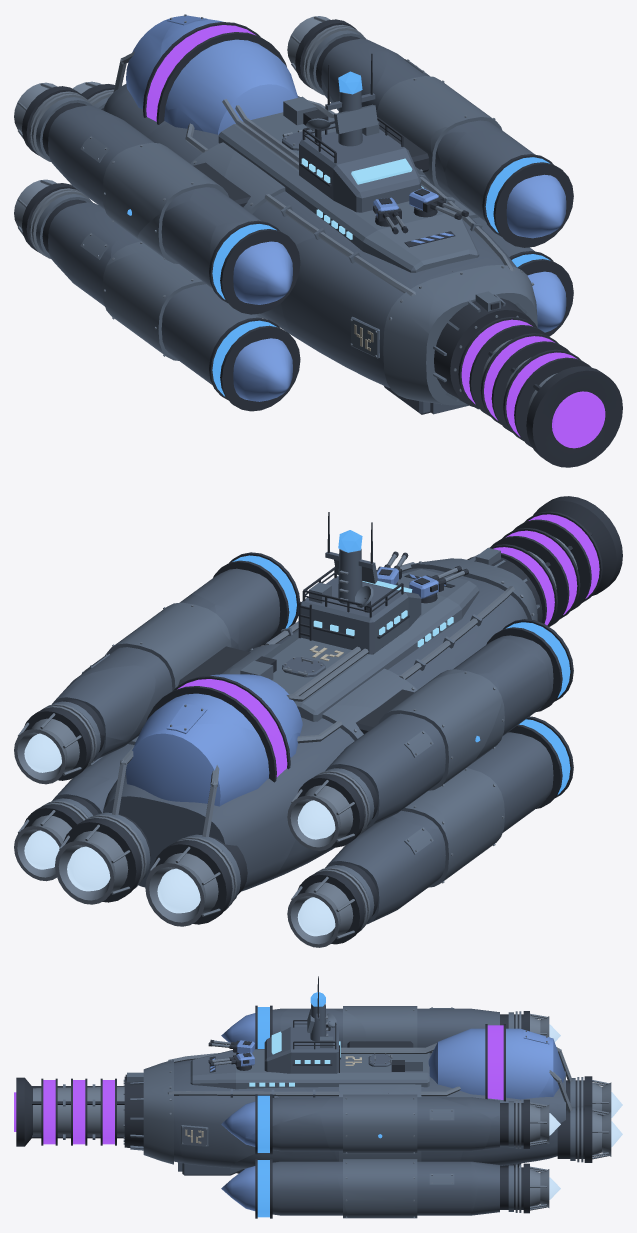
Rendered from plasma_frigate_wreck.glb.
3 views of the same model, one above another, from view 1: azimuth 30°, elevation 25°; view 2: azimuth 150°, elevation 25°; view 3: azimuth 270°, elevation 25° (orthographic). The views are drawn at different scales.
Parts seen in each view (by area): view 1: plasma_frigate_wreck_06, plasma_frigate_wreck_05, plasma_frigate_wreck_01, plasma_frigate_wreck_11, plasma_frigate_wreck_08, plasma_frigate_wreck_09, plasma_frigate_wreck_03, plasma_frigate_wreck_12, plasma_frigate_wreck_02, plasma_frigate_wreck_00, plasma_frigate_wreck_04, plasma_frigate_wreck_07; view 2: plasma_frigate_wreck_00, plasma_frigate_wreck_01, plasma_frigate_wreck_08, plasma_frigate_wreck_03, plasma_frigate_wreck_09, plasma_frigate_wreck_12, plasma_frigate_wreck_05, plasma_frigate_wreck_07, plasma_frigate_wreck_06, plasma_frigate_wreck_02, plasma_frigate_wreck_11; view 3: plasma_frigate_wreck_02, plasma_frigate_wreck_11, plasma_frigate_wreck_05, plasma_frigate_wreck_07, plasma_frigate_wreck_09, plasma_frigate_wreck_04, plasma_frigate_wreck_01, plasma_frigate_wreck_08, plasma_frigate_wreck_00, plasma_frigate_wreck_06.
Boxes of the visible parts, x1=… form: plasma_frigate_wreck_06: x1=209, y1=220, x2=468, y2=414; plasma_frigate_wreck_05: x1=429, y1=264, x2=622, y2=467; plasma_frigate_wreck_01: x1=189, y1=53, x2=466, y2=244; plasma_frigate_wreck_11: x1=353, y1=131, x2=572, y2=281; plasma_frigate_wreck_08: x1=22, y1=88, x2=237, y2=264; plasma_frigate_wreck_09: x1=156, y1=14, x2=388, y2=136; plasma_frigate_wreck_03: x1=103, y1=201, x2=297, y2=411; plasma_frigate_wreck_12: x1=14, y1=137, x2=135, y2=316; plasma_frigate_wreck_02: x1=361, y1=49, x2=509, y2=222; plasma_frigate_wreck_00: x1=14, y1=15, x2=183, y2=183; plasma_frigate_wreck_04: x1=449, y1=136, x2=573, y2=336; plasma_frigate_wreck_07: x1=287, y1=16, x2=365, y2=110; plasma_frigate_wreck_00: x1=71, y1=723, x2=351, y2=926; plasma_frigate_wreck_01: x1=214, y1=512, x2=525, y2=708; plasma_frigate_wreck_08: x1=286, y1=671, x2=501, y2=830; plasma_frigate_wreck_03: x1=415, y1=653, x2=573, y2=883; plasma_frigate_wreck_09: x1=53, y1=660, x2=317, y2=747; plasma_frigate_wreck_12: x1=269, y1=816, x2=449, y2=947; plasma_frigate_wreck_05: x1=408, y1=496, x2=622, y2=626; plasma_frigate_wreck_07: x1=14, y1=700, x2=141, y2=904; plasma_frigate_wreck_06: x1=436, y1=565, x2=573, y2=749; plasma_frigate_wreck_02: x1=65, y1=594, x2=238, y2=781; plasma_frigate_wreck_11: x1=191, y1=551, x2=458, y2=651; plasma_frigate_wreck_02: x1=319, y1=1091, x2=491, y2=1218; plasma_frigate_wreck_11: x1=173, y1=1040, x2=330, y2=1172; plasma_frigate_wreck_05: x1=14, y1=1065, x2=186, y2=1164; plasma_frigate_wreck_07: x1=460, y1=1098, x2=620, y2=1215; plasma_frigate_wreck_09: x1=396, y1=1024, x2=552, y2=1118; plasma_frigate_wreck_04: x1=221, y1=1112, x2=348, y2=1218; plasma_frigate_wreck_01: x1=261, y1=976, x2=412, y2=1097; plasma_frigate_wreck_08: x1=332, y1=1006, x2=536, y2=1056; plasma_frigate_wreck_00: x1=513, y1=1012, x2=622, y2=1136; plasma_frigate_wreck_06: x1=155, y1=1005, x2=289, y2=1175.
Bounding box in the file's own units: 3.27 × 2.52 × 7.38.
